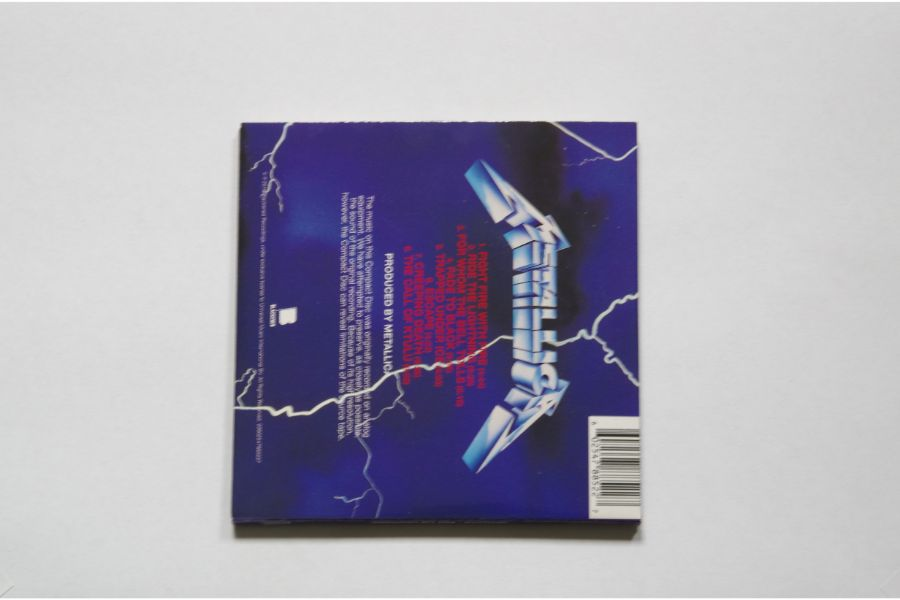album: (229, 122, 647, 527)
